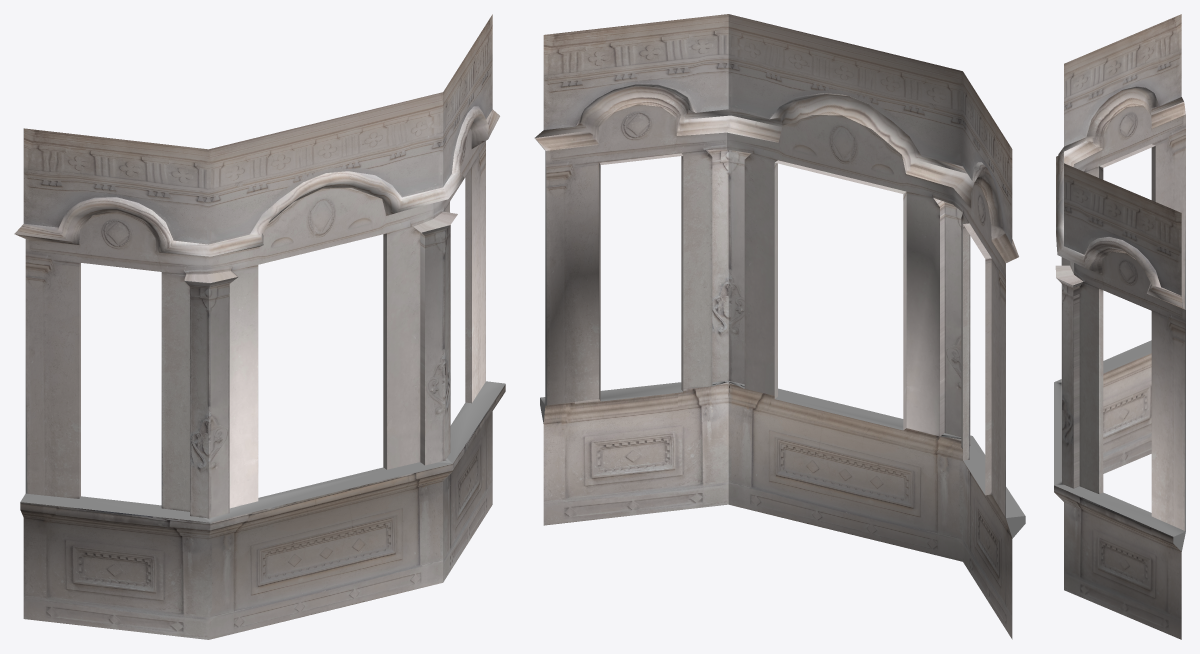
The model's file is WallBowWindowA.fbx.
3 views of the same model, side by side, from view 1: azimuth 30°, elevation 25°; view 2: azimuth 150°, elevation 25°; view 3: azimuth 270°, elevation 25° (orthographic). The views are drawn at different scales.
Parts seen in each view (by area): view 1: WallBowWindowA; view 2: WallBowWindowA; view 3: WallBowWindowA.
Boxes of the visible parts, x1,y1,x2,y2 form: WallBowWindowA: [14, 14, 505, 639]; WallBowWindowA: [534, 14, 1025, 639]; WallBowWindowA: [1054, 14, 1185, 639].
Bounding box in the file's own units: 414 × 400 × 112.
